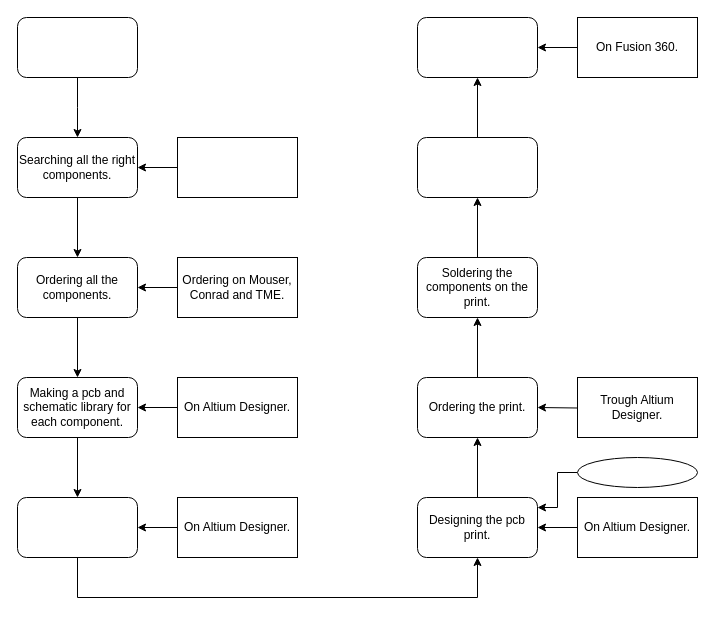
Some shapes in this 715 by 623 pixel diagram are drawn without their labels. Each missing label, with the box of its shape:
Current status!: (576, 456, 698, 488)
Designing and making the case of the solder iron.: (416, 16, 538, 78)
Placing all the components on sheets and connecting them.: (16, 496, 138, 558)
Reading the magazine.: (16, 16, 138, 78)
Searching on Mouser, Conrad and TME.: (176, 136, 298, 198)
Testing the solder iron.: (416, 136, 538, 198)
